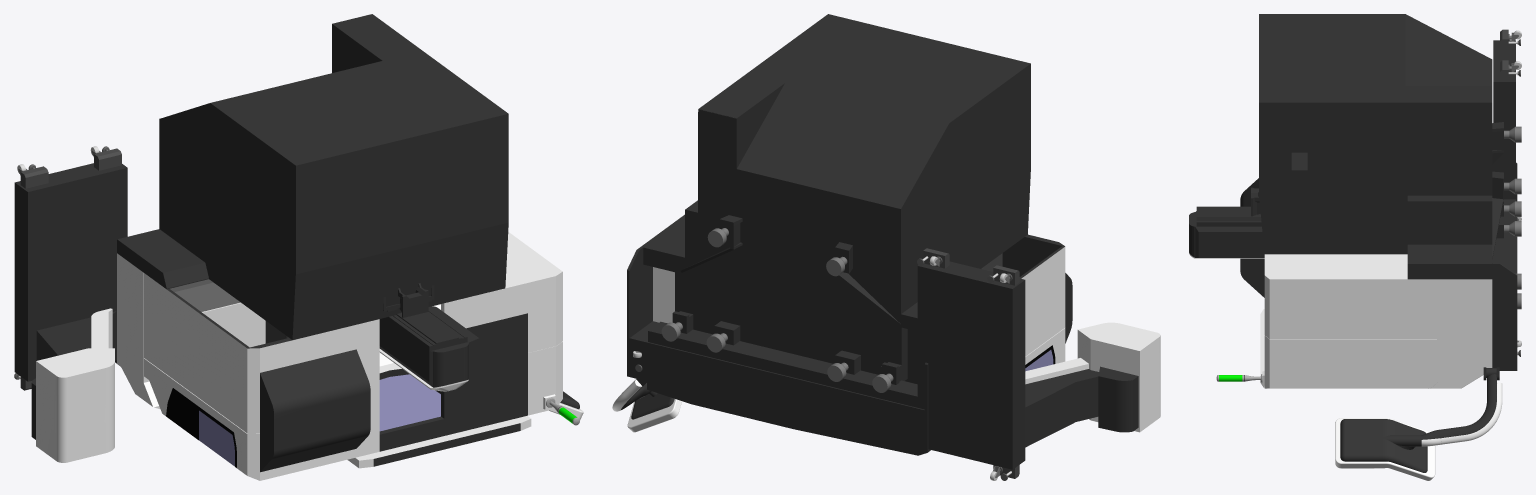
The picture shows the model from 3 angles, left to right: view 1: azimuth 30°, elevation 25°; view 2: azimuth 150°, elevation 25°; view 3: azimuth 270°, elevation 25°; orthographic projection. The views are drawn at different scales.
Visible parts, largest first — view 1: Machine Enclosure, Chip Conveyor, Z-Axis System, Access Door, Tool Changer Housing, Machine Base, Y-Axis System; view 2: Machine Enclosure, Chip Conveyor, Machine Base, Operator Control Console; view 3: Machine Enclosure, Operator Control Console, Chip Conveyor, Z-Axis System, Machine Base.
Boxes of the visible parts, left/top/right/bottom form: Machine Enclosure: left=115, top=14, right=579, bottom=480; Chip Conveyor: left=14, top=146, right=127, bottom=462; Z-Axis System: left=379, top=306, right=479, bottom=391; Access Door: left=347, top=352, right=531, bottom=468; Tool Changer Housing: left=202, top=302, right=288, bottom=347; Machine Base: left=170, top=279, right=240, bottom=311; Y-Axis System: left=383, top=283, right=434, bottom=317; Machine Enclosure: left=627, top=14, right=1072, bottom=455; Chip Conveyor: left=633, top=248, right=1160, bottom=480; Machine Base: left=661, top=215, right=917, bottom=392; Operator Control Console: left=612, top=379, right=681, bottom=432; Machine Enclosure: left=1216, top=14, right=1517, bottom=388; Operator Control Console: left=1335, top=368, right=1502, bottom=480; Chip Conveyor: left=1493, top=29, right=1521, bottom=356; Z-Axis System: left=1189, top=206, right=1264, bottom=258; Machine Base: left=1492, top=122, right=1521, bottom=309.
Bounding box in the file's own units: 4.55 × 3.25 × 2.94.
